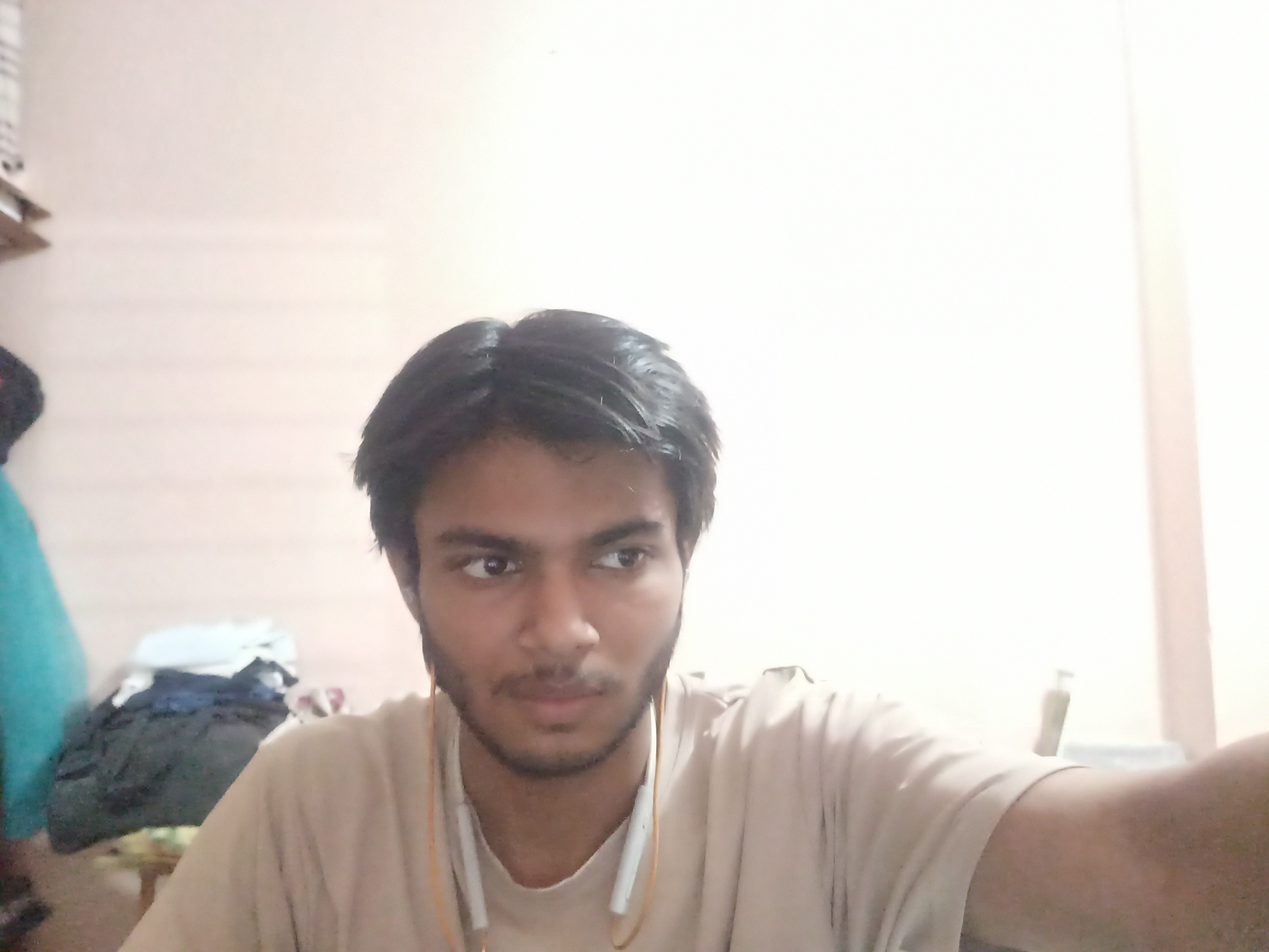Focused: (305, 273, 793, 846)
